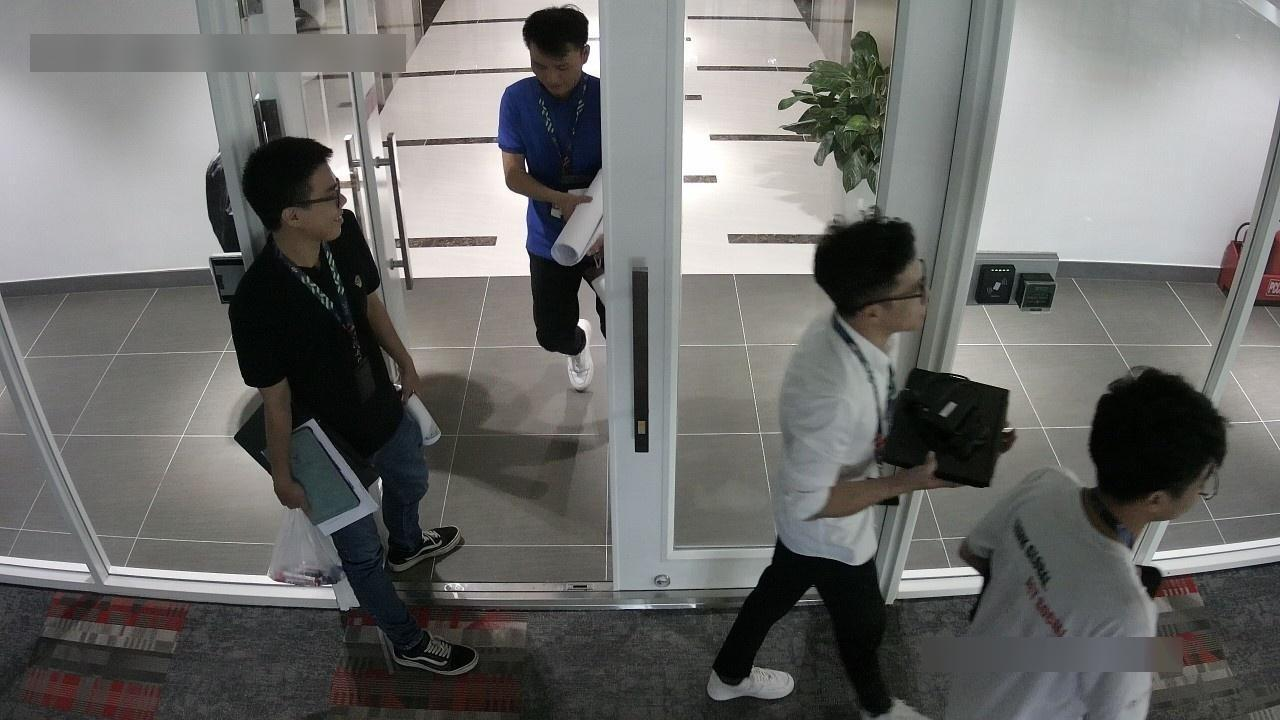no_apron: (880, 444, 964, 512), (254, 456, 320, 530), (524, 176, 598, 222), (388, 356, 446, 412)
no_gloves: (1085, 365, 1248, 518), (809, 194, 929, 324), (235, 121, 345, 229), (508, 1, 610, 72)
no_hairnet: (278, 190, 353, 256), (865, 278, 939, 337), (521, 58, 588, 99)
